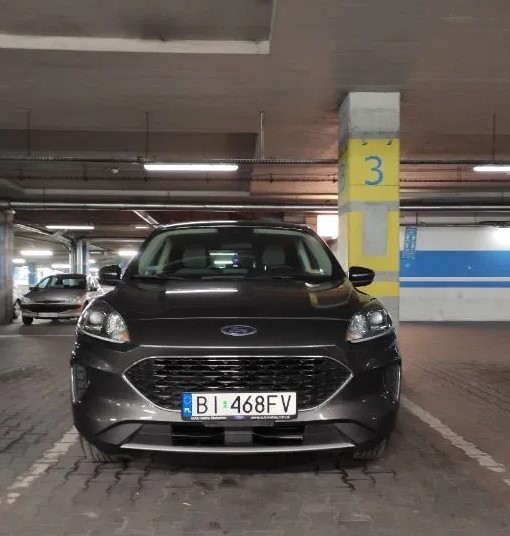number_plate: (176, 391, 306, 422)
